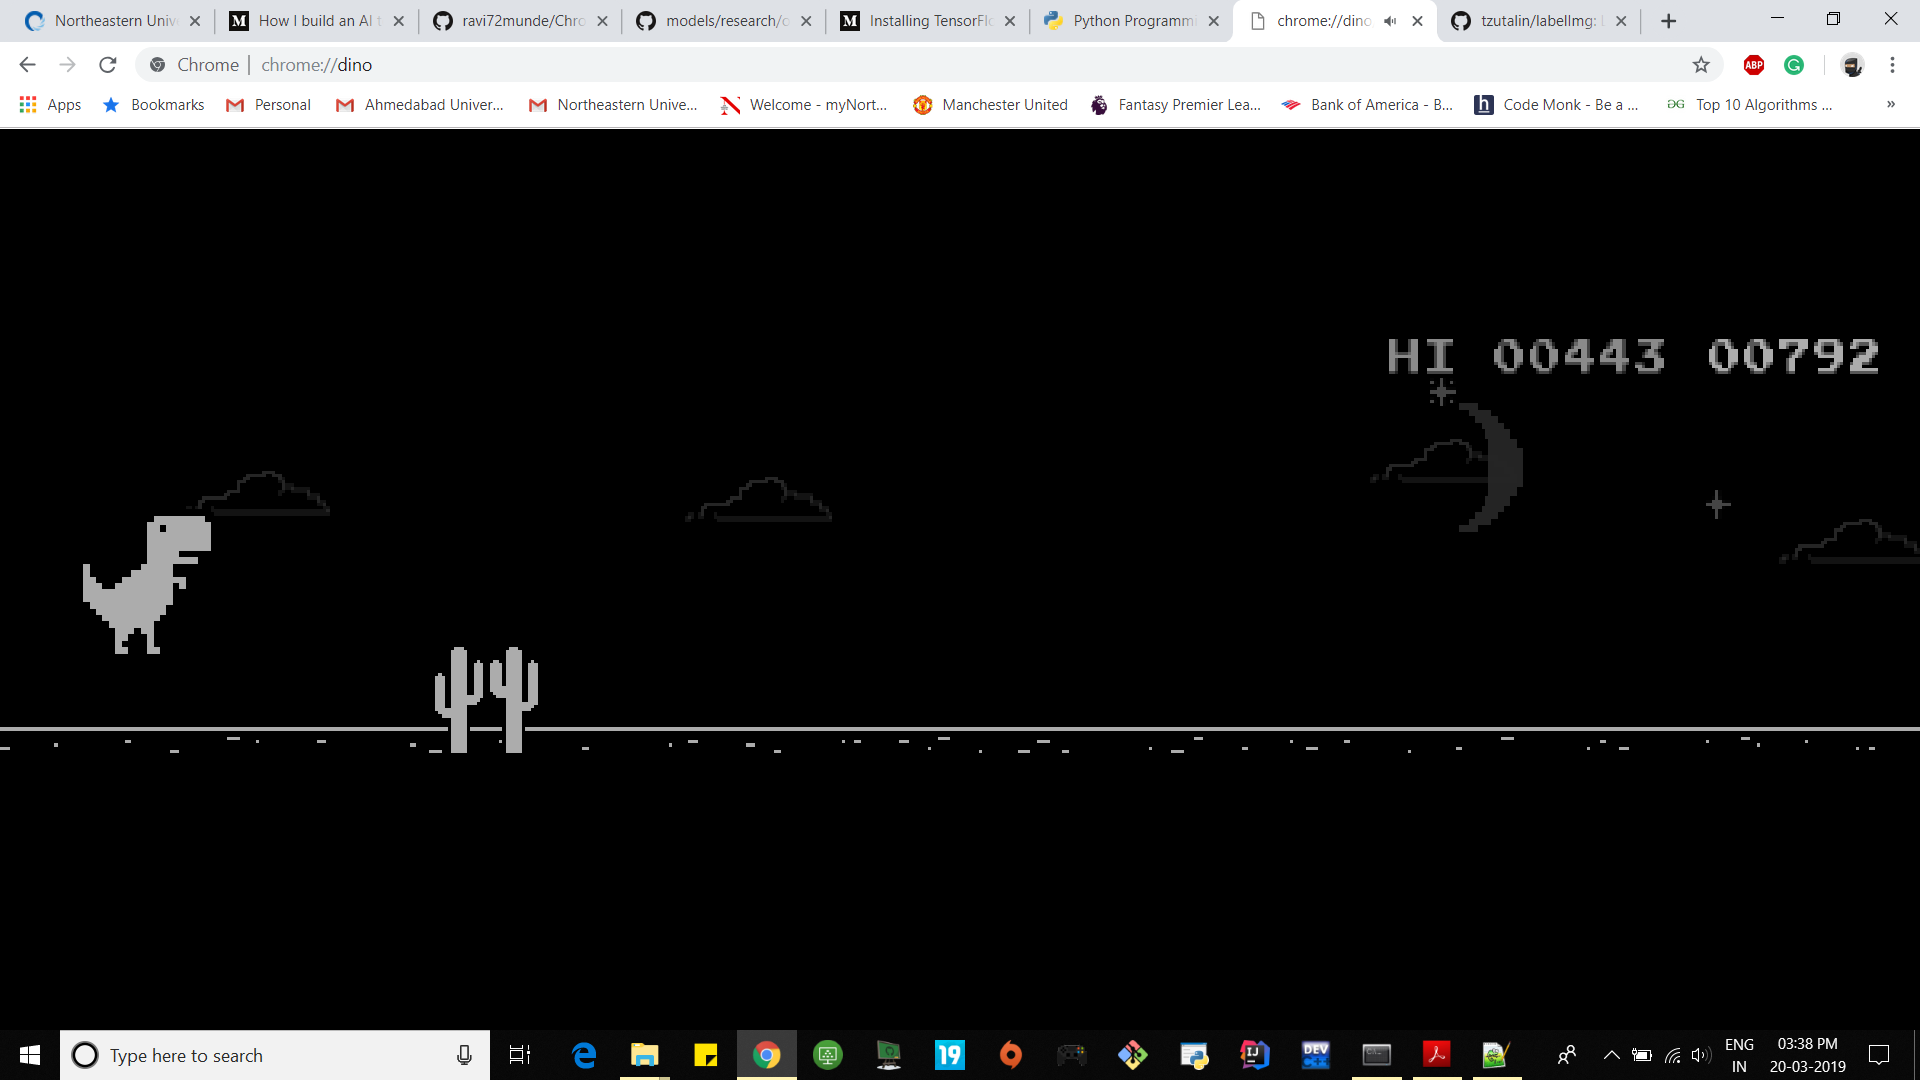cactus-2: (436, 644, 537, 754)
dino: (76, 516, 210, 669)
